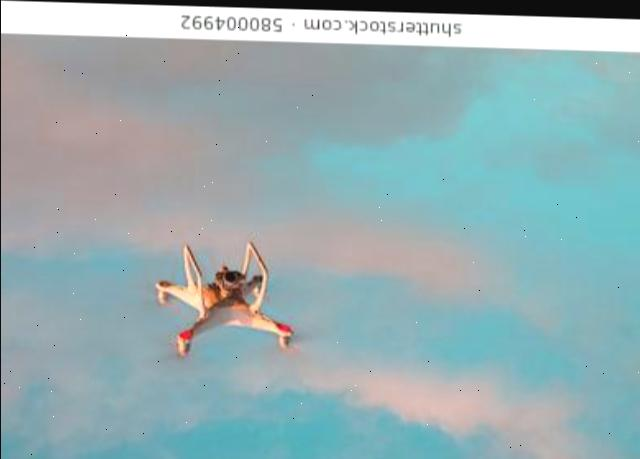drone: (0, 0, 640, 169)
